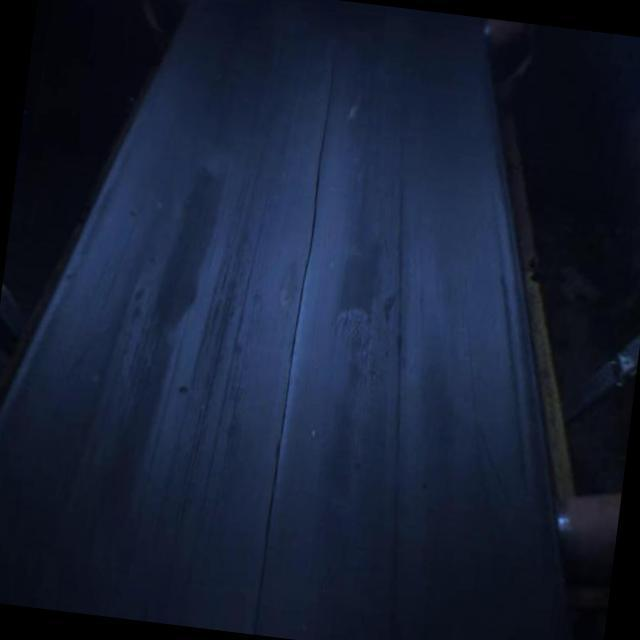Tear: (244, 45, 344, 635)
